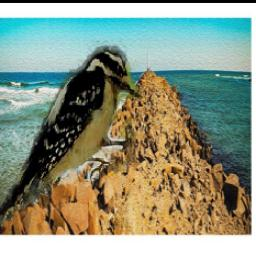Woodpecker: (0, 42, 142, 220)
